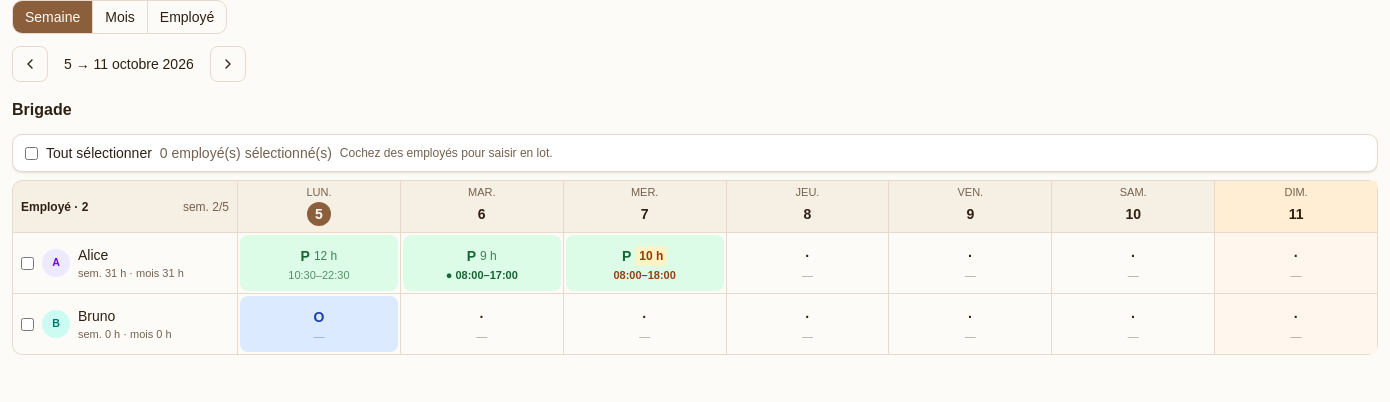
Test: vue Semaine › « Tout sélectionner » coche tous les employés de la section
Click the checkbox named "Tout sélectionner" at (32, 153), box [25,146,38,160]
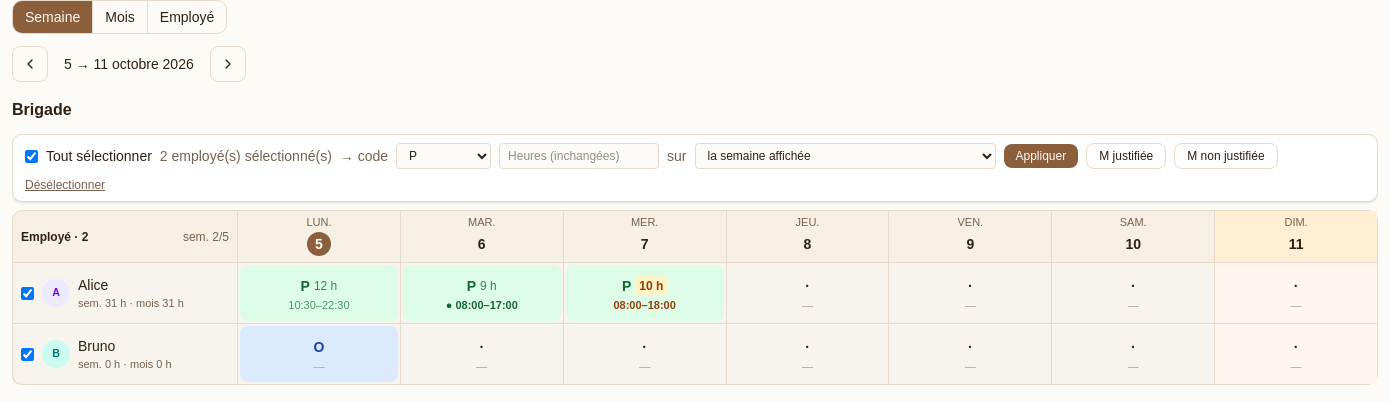
Result: the element that starts with "Tout sélectionner" shows "2 employé(s) sélectionné(s)" at [160,148,332,164]
